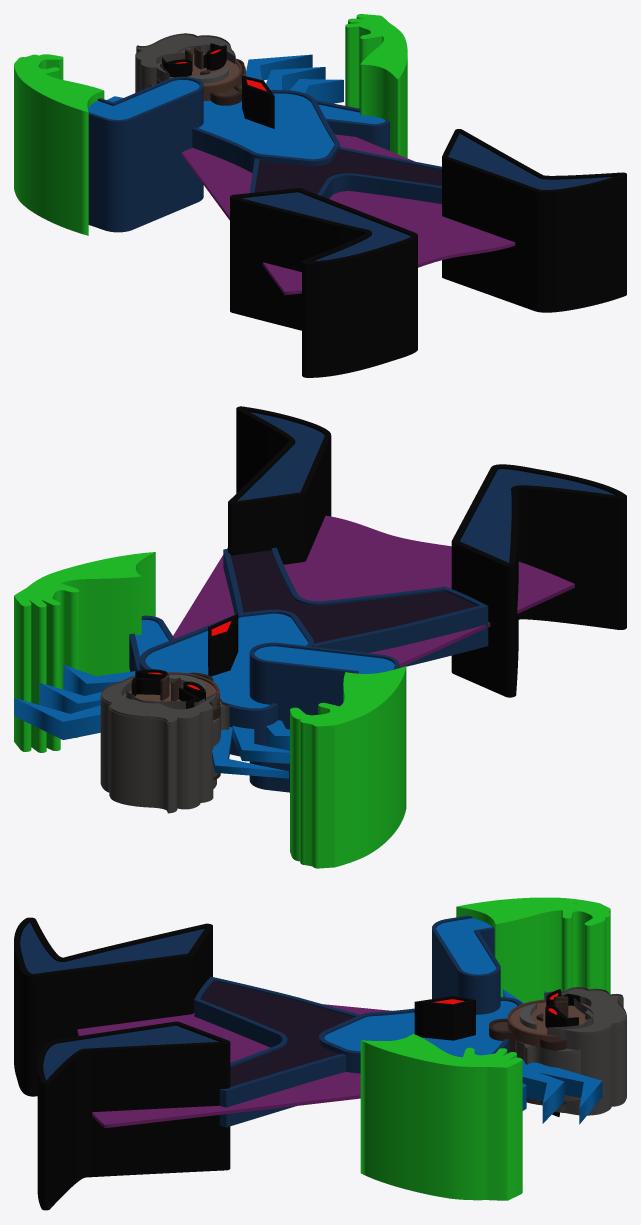
The model's file is emoji_u1f9b9_1f3ff.glb.
3 views of the same model, one above another, from view 1: azimuth 30°, elevation 25°; view 2: azimuth 150°, elevation 25°; view 3: azimuth 270°, elevation 25° (orthographic). The views are drawn at different scales.
Parts seen in each view (by area): view 1: emoji_u1f9b9_1f3ff; view 2: emoji_u1f9b9_1f3ff; view 3: emoji_u1f9b9_1f3ff.
Part boxes in pixels (x1,y1,x2,y2): emoji_u1f9b9_1f3ff: [14, 14, 626, 377]; emoji_u1f9b9_1f3ff: [14, 406, 626, 868]; emoji_u1f9b9_1f3ff: [14, 897, 626, 1210].
Size of the model in its own units: 0.0238 by 0.008 by 0.0334.
